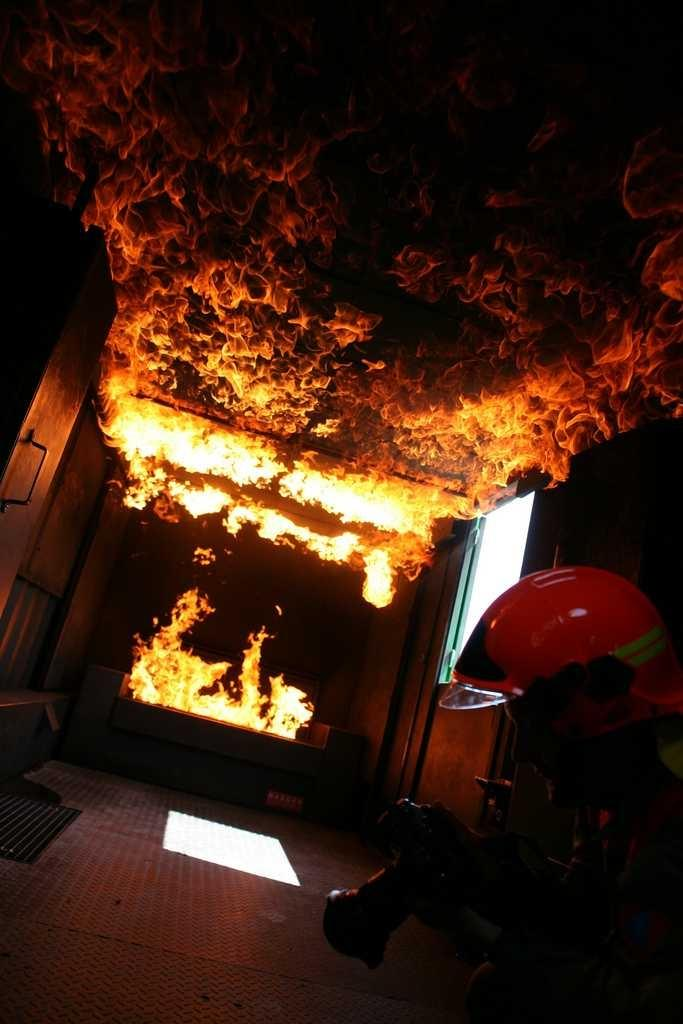fire: (124, 315, 533, 496), (106, 40, 189, 315), (146, 627, 281, 709)
